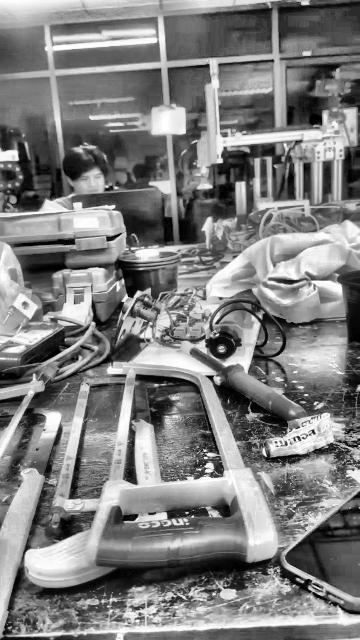pot: (338, 271, 359, 341)
